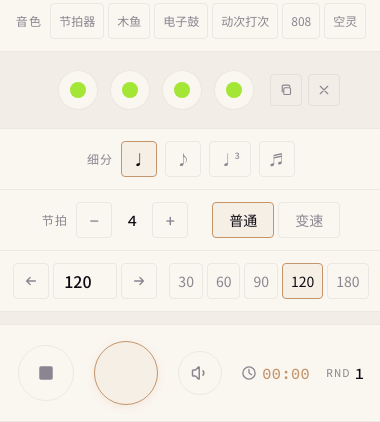
Scenario: Metronome volume control › loads the saved volume and exposes an accessible popup
Click the button named "音量 42%". click: click(200, 373)
box: [178, 351, 222, 395]
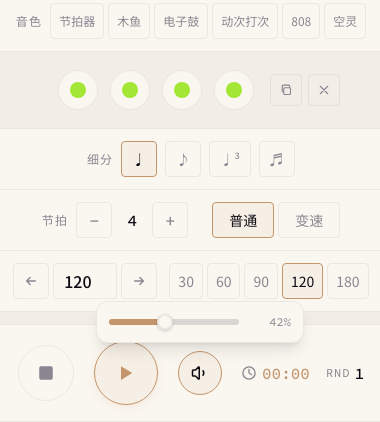
Expected: the button named "音量 42%" is expanded, [178, 351, 222, 395]
Expected: the text "42%" is shown, [269, 314, 291, 329]
